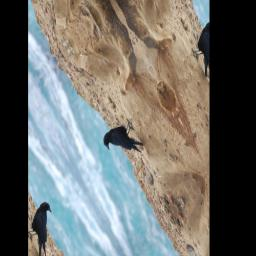Crow: (100, 112, 147, 176)
